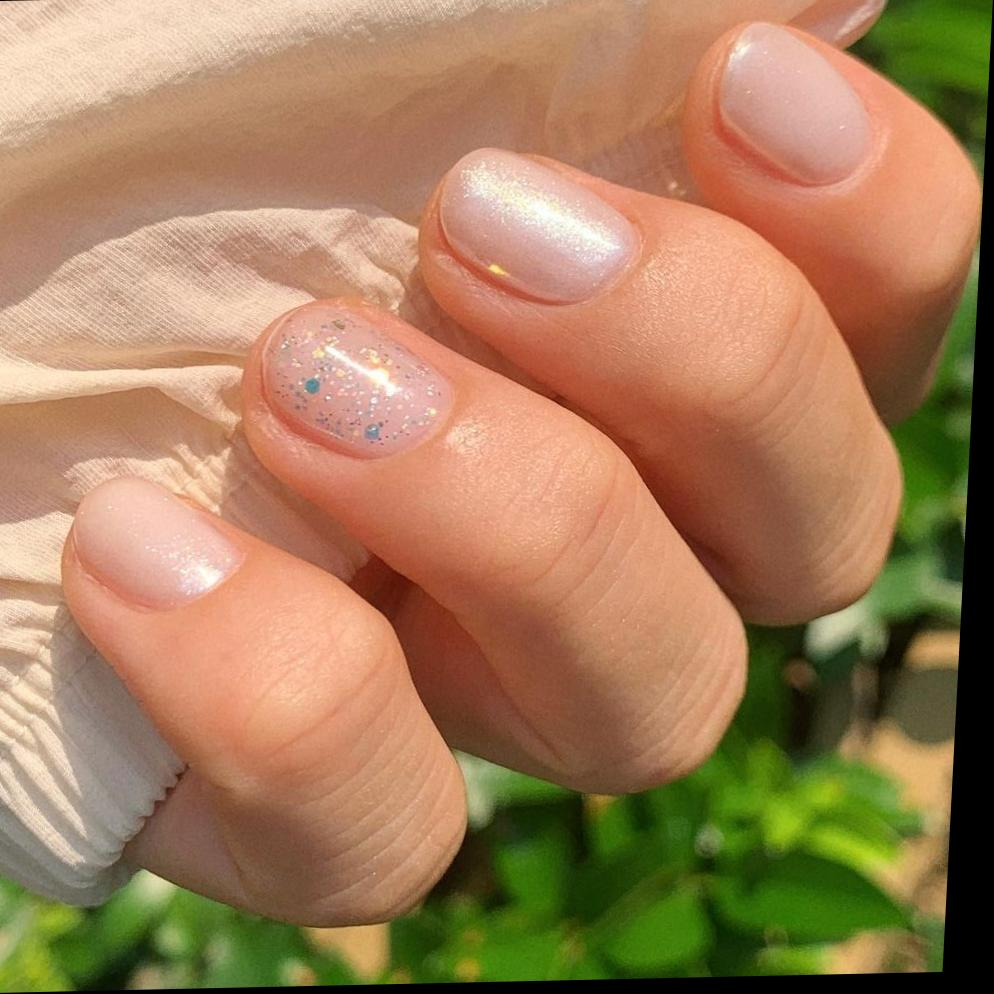nail: (430, 141, 650, 310), (254, 296, 462, 464), (708, 17, 884, 193), (68, 473, 252, 614)
